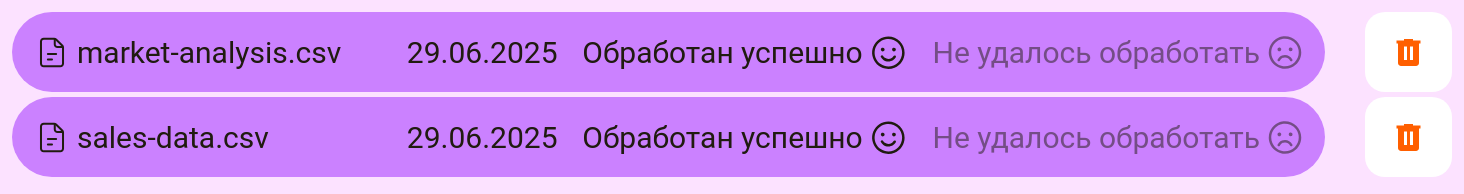
Test case: HistoryList Integration Tests › Item Deletion › should remove item from both storage and store when deleted
Expected: the text "sales-data.csv" is shown, [77, 120, 269, 154]
Expected: the text "market-analysis.csv" is shown, [77, 36, 341, 68]
Click the button named "Удалить файл sales-data.csv" at (1408, 137), box [1365, 97, 1452, 177]
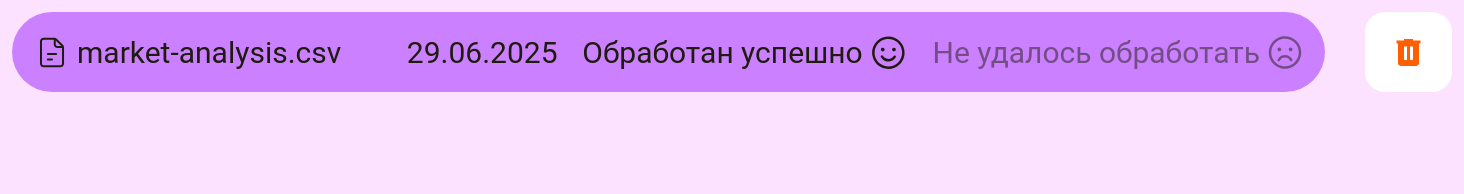
Expected: the text "market-analysis.csv" is shown, [77, 36, 341, 68]
Expected: the button "sales-data.csv" is gone
